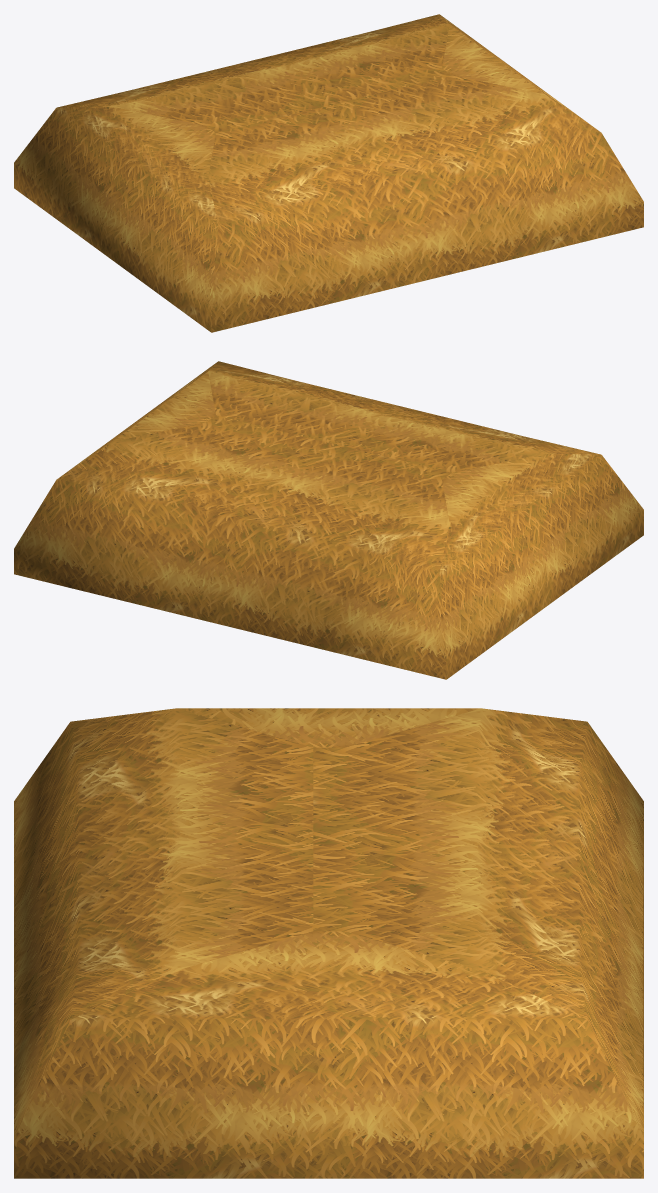
The model's file is RecBaseHouserRoof_02.fbx.
The picture shows the model from 3 angles, top to bottom: view 1: azimuth 30°, elevation 25°; view 2: azimuth 150°, elevation 25°; view 3: azimuth 270°, elevation 25°; orthographic projection. The views are drawn at different scales.
Visible parts, largest first — view 1: Cube.056; view 2: Cube.056; view 3: Cube.056.
Part boxes in pixels (x1,y1,x2,y2): Cube.056: (14, 14, 643, 332); Cube.056: (14, 361, 643, 679); Cube.056: (14, 708, 643, 1178).
Bounding box in the file's own units: 33.13 × 7.84 × 26.2.
